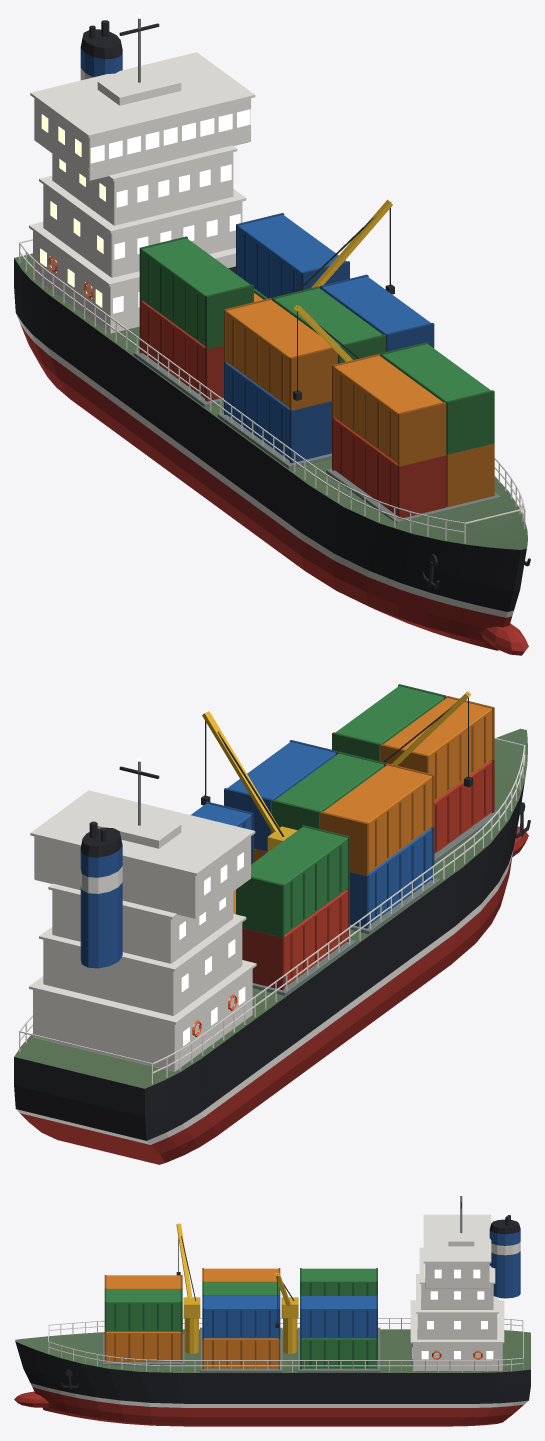
File: harbor_cargo_ship_v01.glb
3 views of the same model, one above another, from view 1: azimuth 30°, elevation 25°; view 2: azimuth 150°, elevation 25°; view 3: azimuth 270°, elevation 25° (orthographic). The views are drawn at different scales.
Parts seen in each view (by area): view 1: cargo_ship; view 2: cargo_ship; view 3: cargo_ship.
Boxes of the visible parts, x1=… form: cargo_ship: x1=14, y1=14, x2=530, y2=655; cargo_ship: x1=14, y1=684, x2=530, y2=1164; cargo_ship: x1=14, y1=1193, x2=530, y2=1426.
Bounding box in the file's own units: 9.54 × 18.49 × 40.1.
